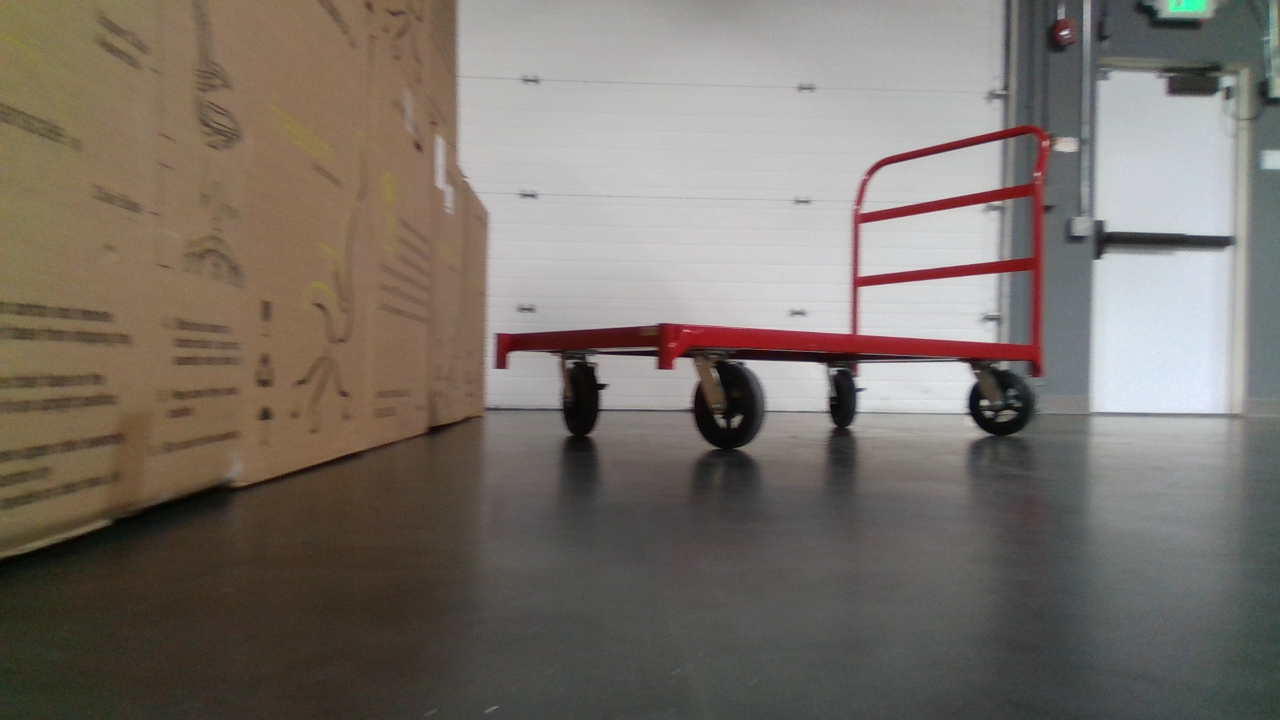Dolly: (489, 119, 1054, 450)
Wheel: (692, 362, 765, 450), (965, 368, 1035, 438), (561, 361, 606, 436), (827, 368, 866, 428)
